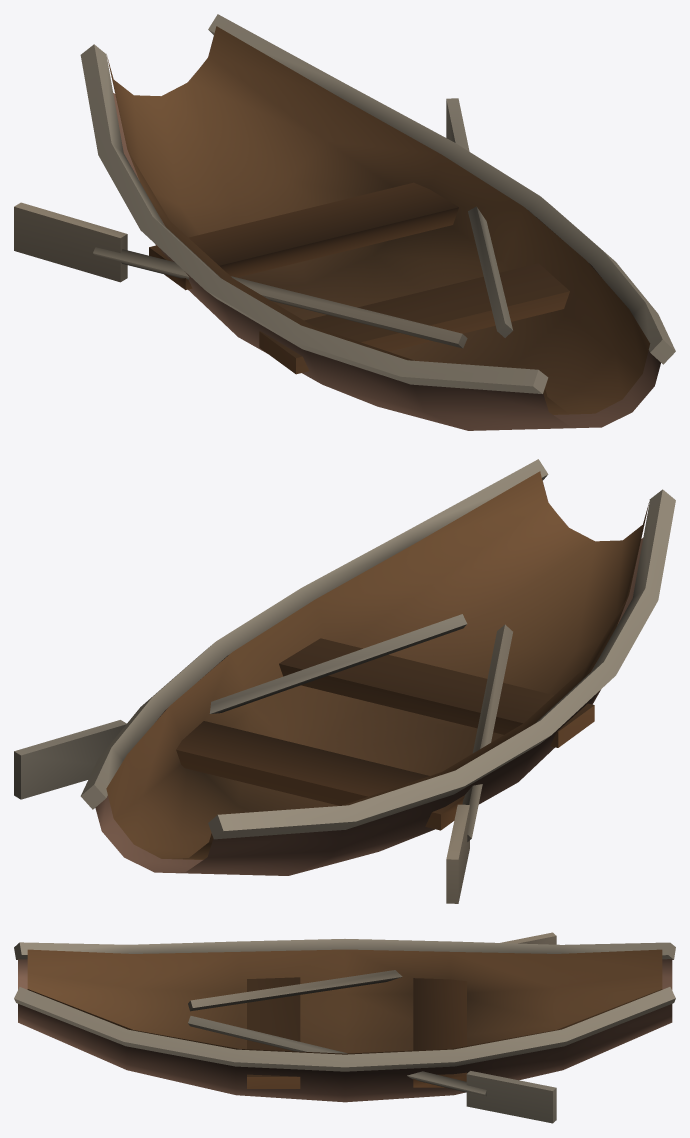
Rendered from PB_Wreck.glb.
The picture shows the model from 3 angles, top to bottom: view 1: azimuth 30°, elevation 25°; view 2: azimuth 150°, elevation 25°; view 3: azimuth 270°, elevation 25°; orthographic projection. The views are drawn at different scales.
Visible parts, largest first — view 1: PB_Wreck_1_Wood; view 2: PB_Wreck_1_Wood; view 3: PB_Wreck_1_Wood.
Part boxes in pixels (left/top/right/bottom): PB_Wreck_1_Wood: left=14, top=14, right=675, bottom=430; PB_Wreck_1_Wood: left=14, top=459, right=675, bottom=903; PB_Wreck_1_Wood: left=14, top=932, right=675, bottom=1123.
Size of the model in its own units: 6.31 by 2.21 by 11.13.
